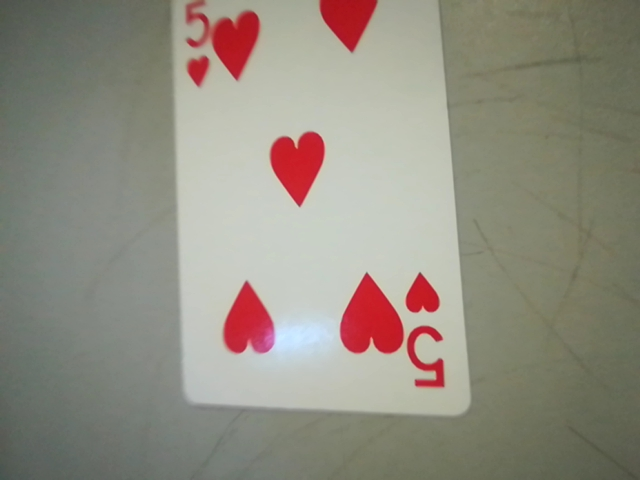hx 5: (403, 272, 466, 409)
